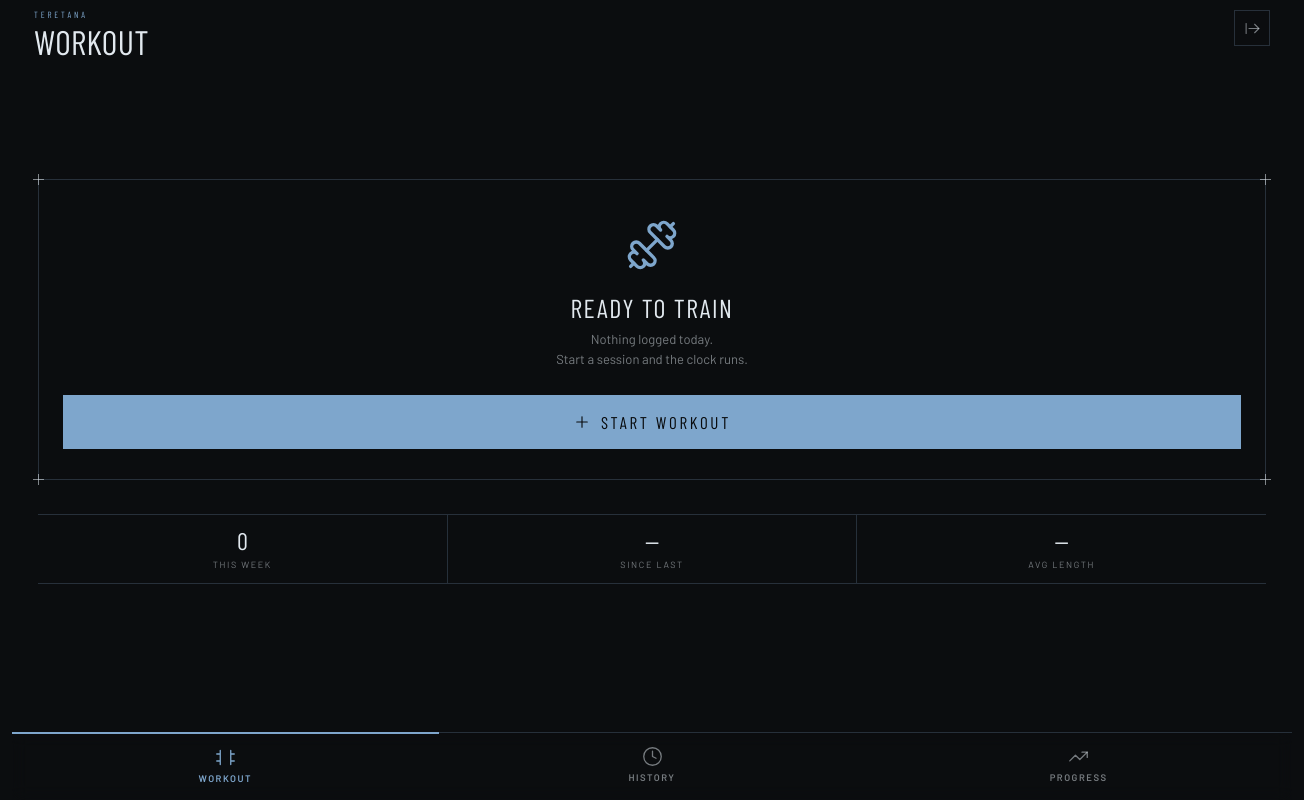
Test: App › returns home and refreshes stats after finishing a workout
The image size is (1304, 800).
expect the text "Ready to train" is shown: met, box left=570, top=292, right=733, bottom=324
Click the button "Start workout" at (652, 422), box left=63, top=395, right=1241, bottom=449
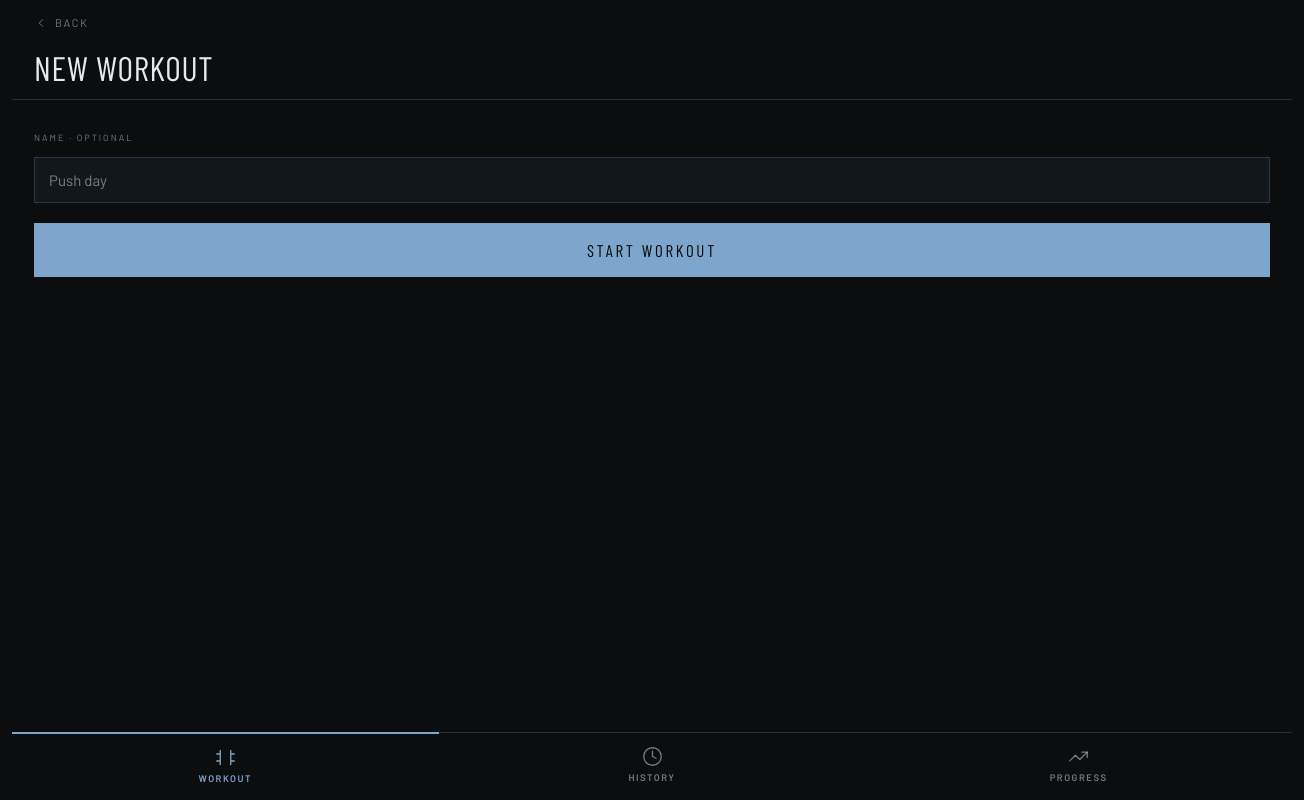
Click the button "Start workout" at (652, 250), box left=34, top=223, right=1270, bottom=277
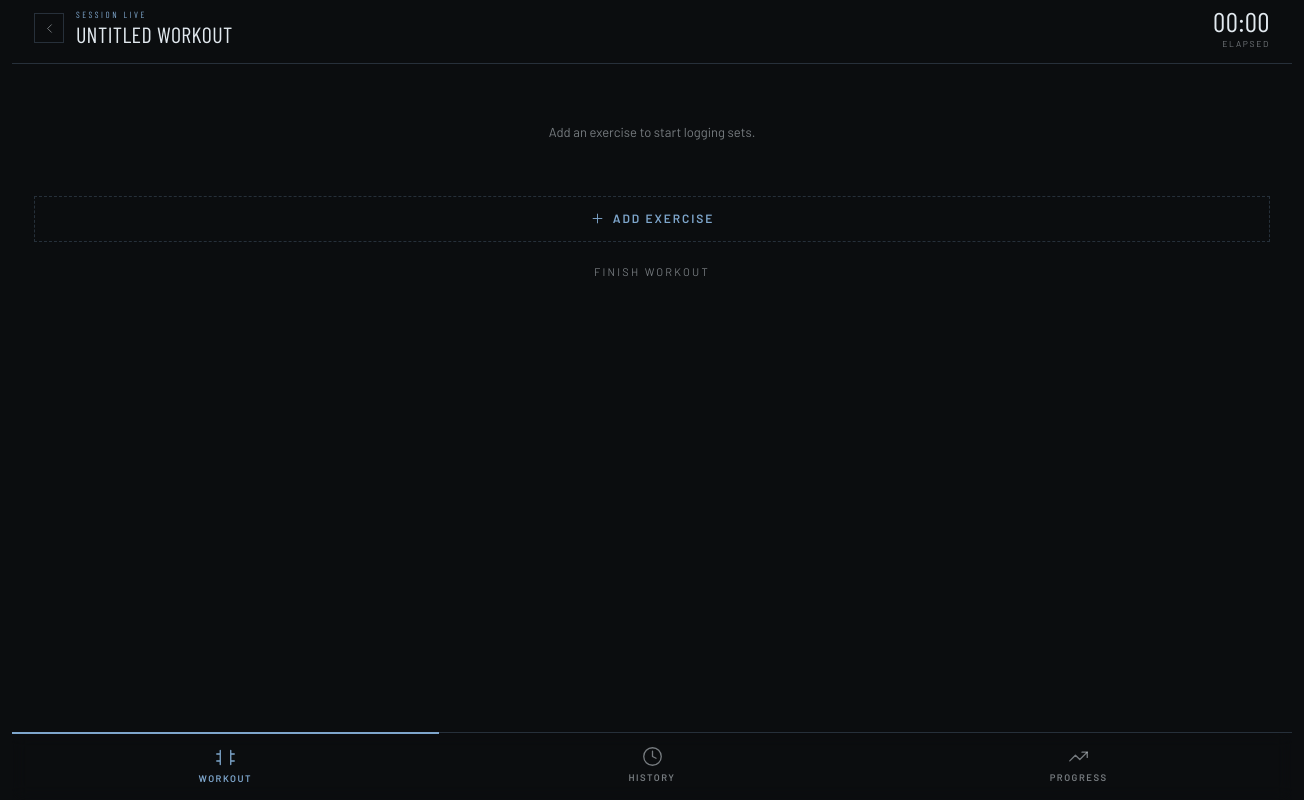
expect the text "Session live" is shown: met, box left=76, top=9, right=147, bottom=20
Click the button "Finish workout" at (652, 272), box left=34, top=252, right=1270, bottom=292
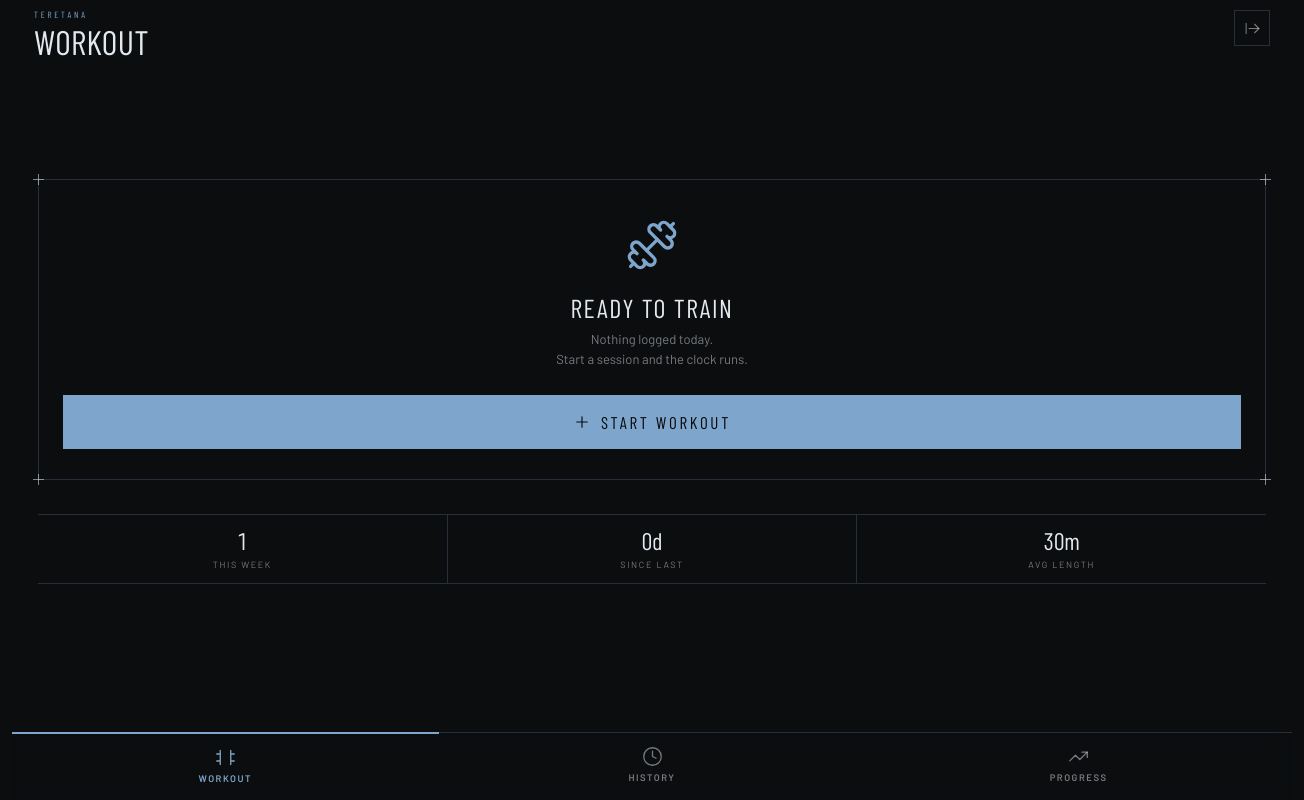
expect the text "Ready to train" is shown: met, box left=570, top=292, right=733, bottom=324
expect the text "1" is shown: met, box left=237, top=526, right=248, bottom=555
